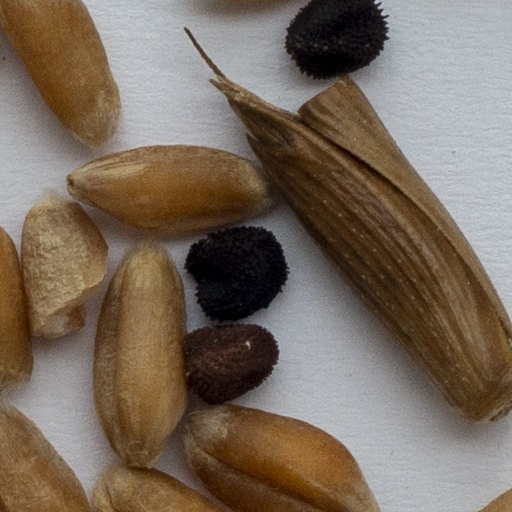Agrostemma-poly: (184, 221, 291, 323), (283, 0, 395, 80)
Peel-poly: (234, 82, 511, 421)
Wheat-grain-damaged-poly: (18, 192, 110, 344)
